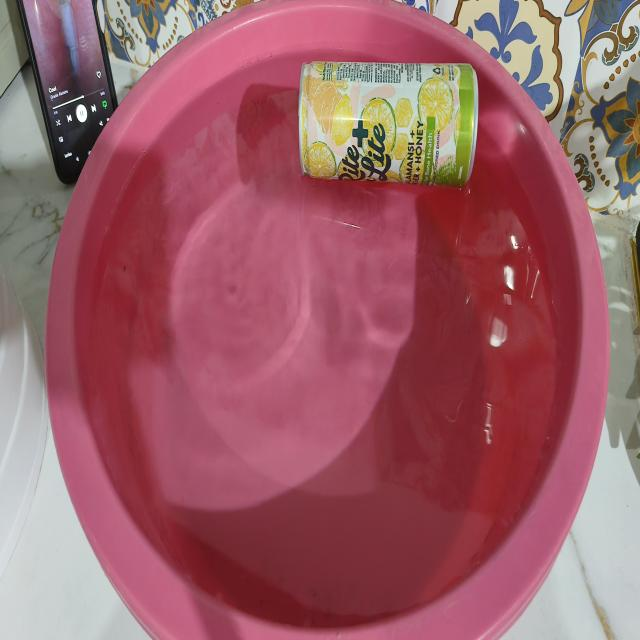Aluminum Can: (298, 61, 479, 187)
